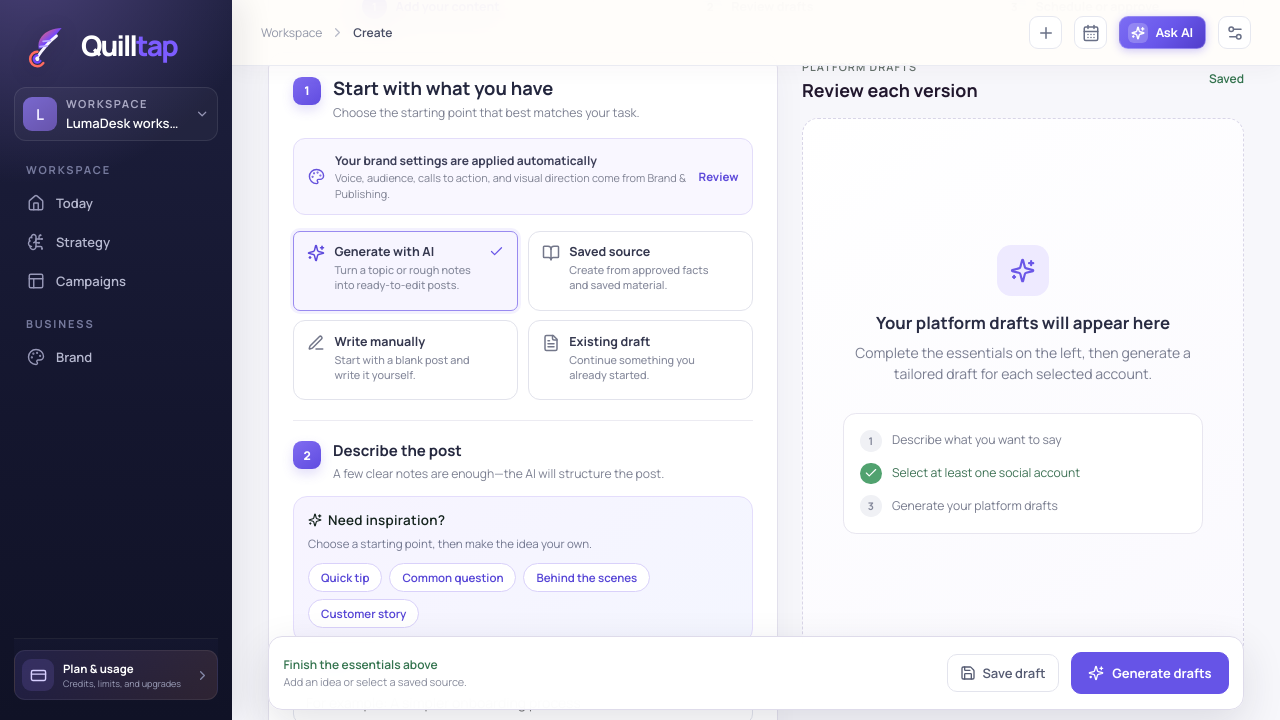
Test case: Quilltap › shows the generic composer controls and connected networks
(page scrolled)
Expected: the heading "Start with what you have" is shown, left=333, top=74, right=553, bottom=100
Expected: the button "Generate drafts" is shown, left=1071, top=652, right=1229, bottom=694
Click the tab "Write manually" at (406, 360), box left=293, top=320, right=518, bottom=400
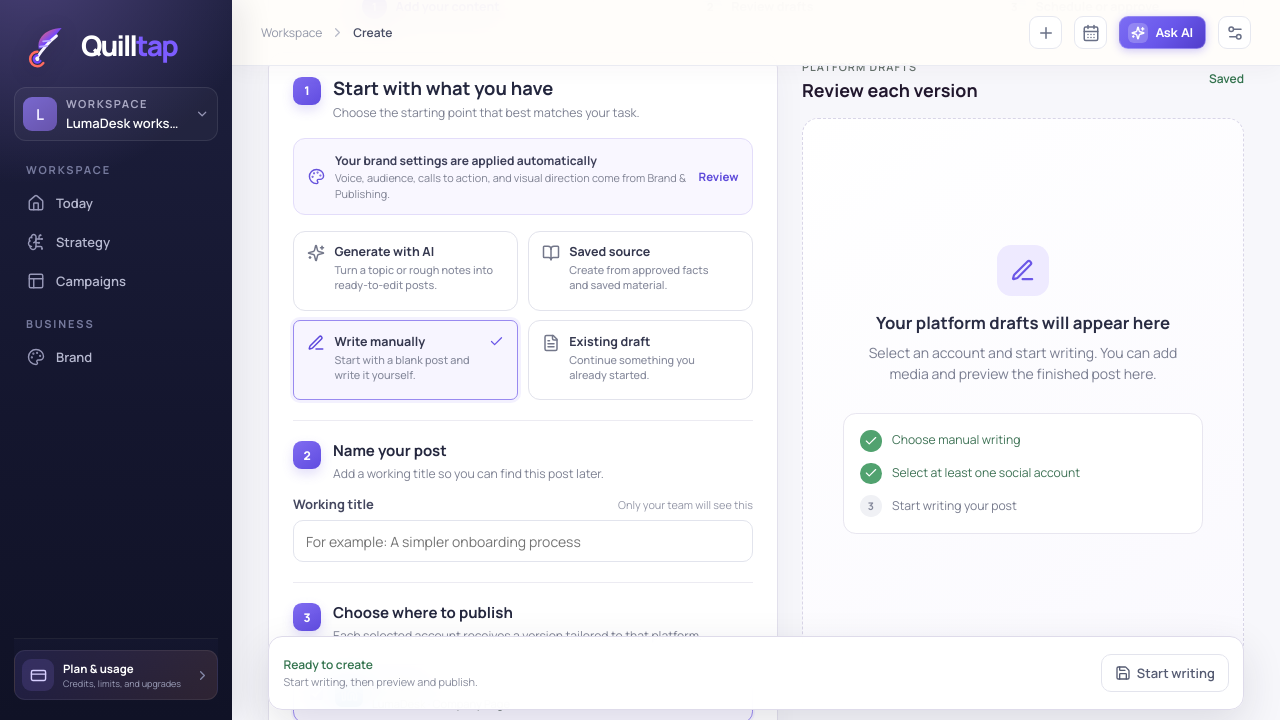
Result: the button "Start writing" is shown at left=1101, top=654, right=1229, bottom=692
